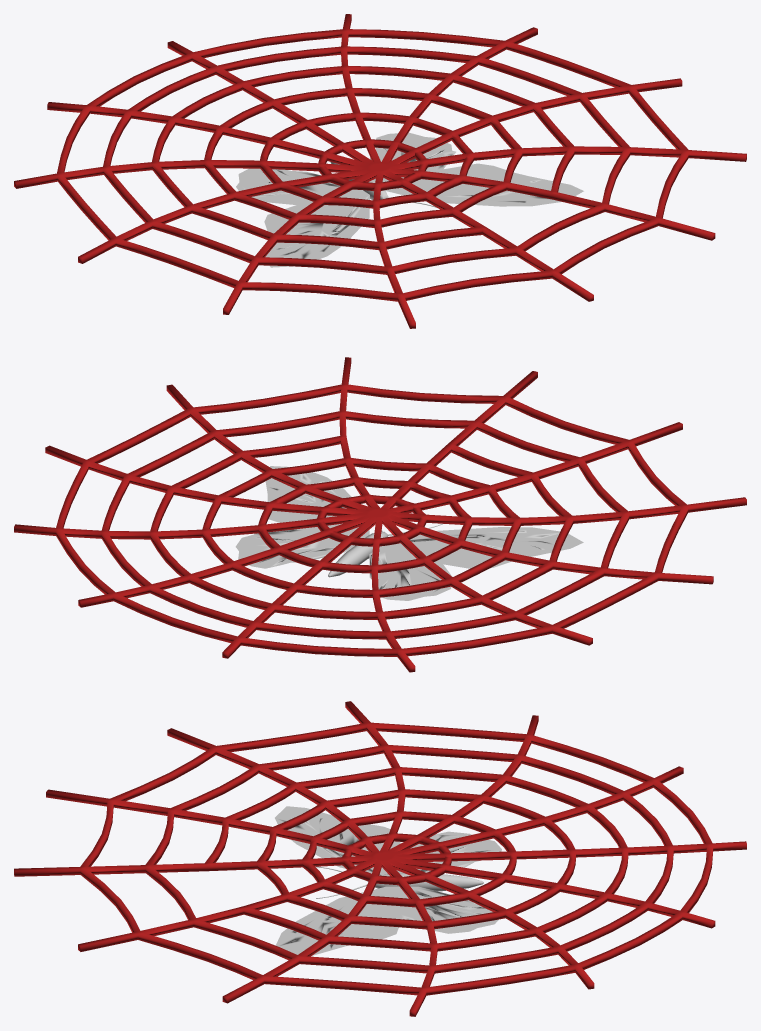
File: butterfly_free.obj
The picture shows the model from 3 angles, top to bottom: view 1: azimuth 30°, elevation 25°; view 2: azimuth 150°, elevation 25°; view 3: azimuth 270°, elevation 25°; orthographic projection.
Parts seen in each view (by area): view 1: Cobweb_A, butterfly; view 2: Cobweb_A, butterfly; view 3: Cobweb_A, butterfly.
Part boxes in pixels (x1,y1,x2,y2): Cobweb_A: (14, 14, 746, 328); butterfly: (236, 132, 583, 267); Cobweb_A: (14, 357, 746, 672); butterfly: (235, 466, 583, 600); Cobweb_A: (14, 701, 746, 1016); butterfly: (275, 806, 501, 955).
Bounding box in the file's own units: 120 × 6.34 × 120.
